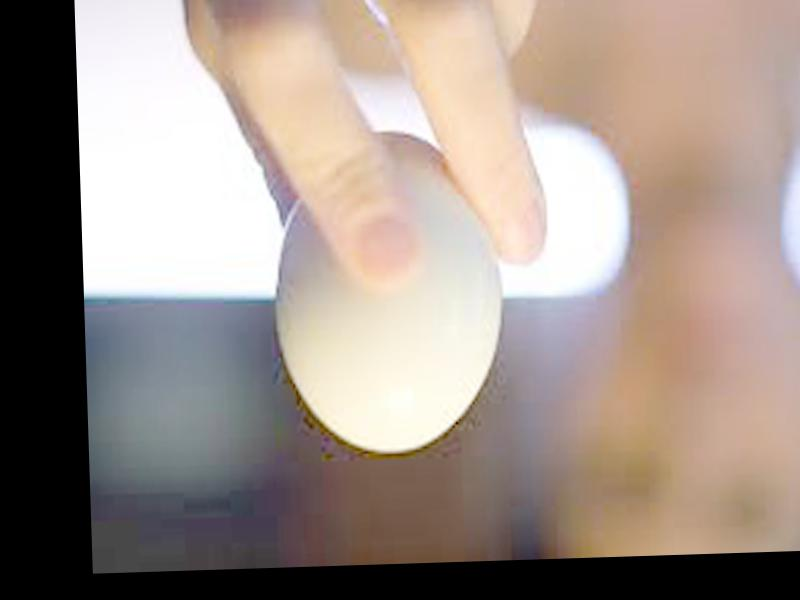Eggs: (274, 127, 511, 455)
